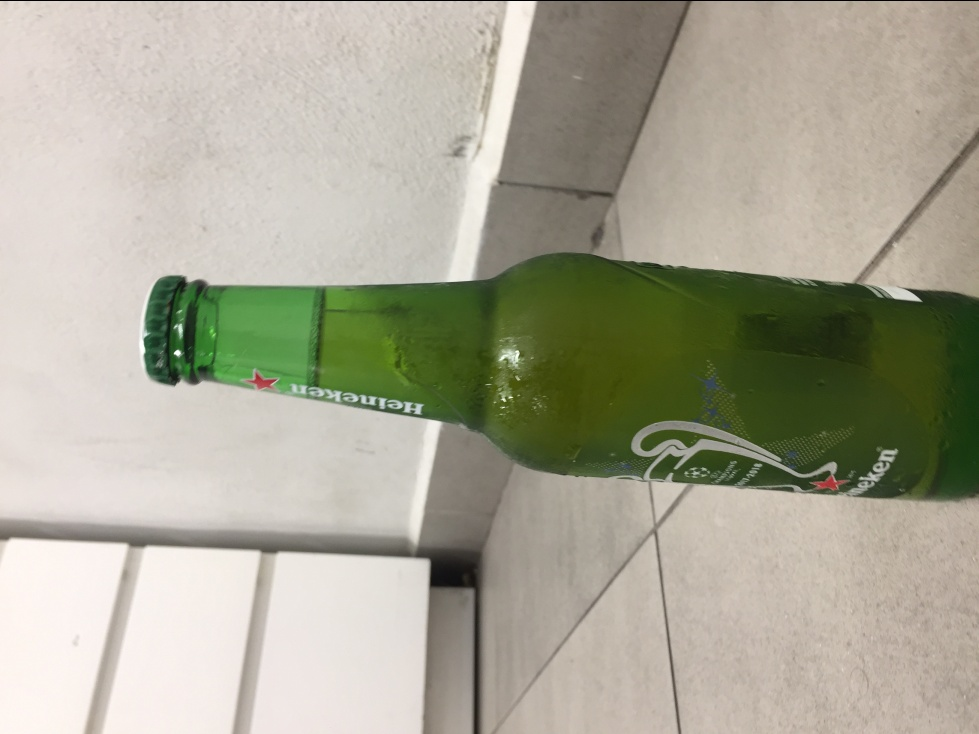heineken: (135, 249, 978, 506)
